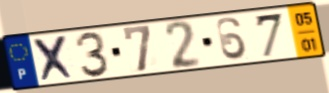2: (163, 17, 204, 74)
3: (74, 30, 111, 79)
6: (216, 16, 249, 63)
7: (120, 23, 154, 74), (252, 12, 287, 59)
X: (30, 33, 79, 84)
